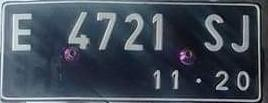1: (144, 12, 173, 53)
2: (120, 12, 146, 52)
4: (60, 10, 94, 51)
7: (92, 11, 120, 53)
E: (10, 8, 36, 56)
S: (194, 13, 229, 52), (231, 13, 254, 52)
